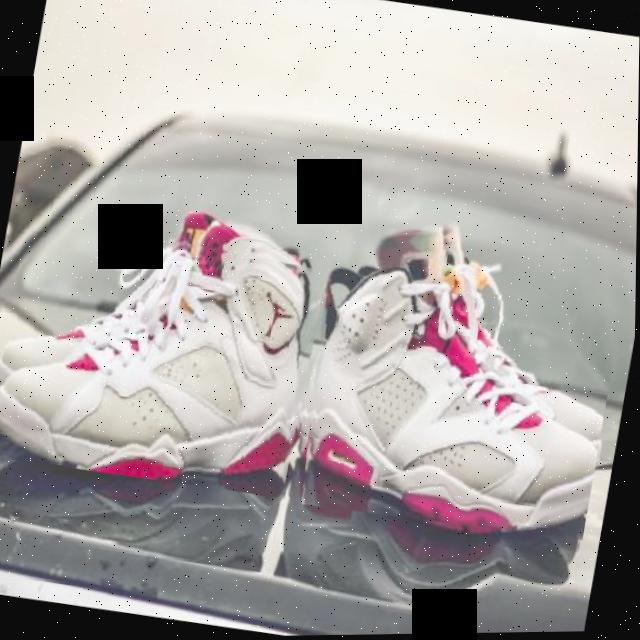shoe: (0, 209, 332, 504), (287, 268, 623, 550)
